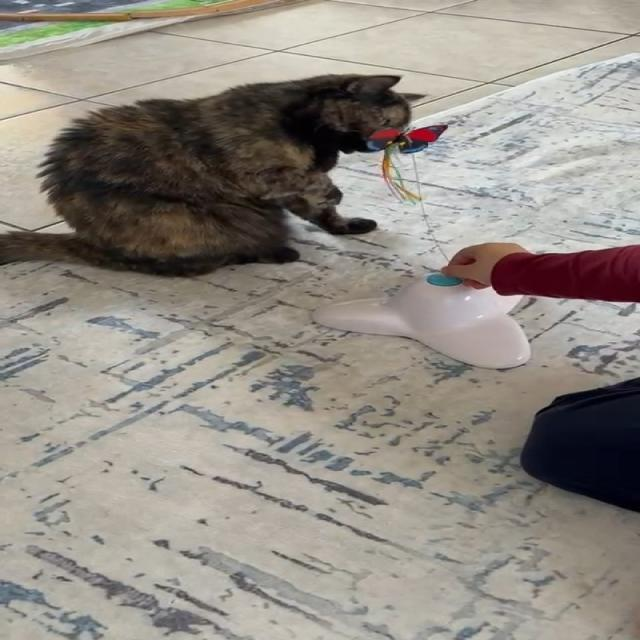authorized: (0, 71, 428, 278)
